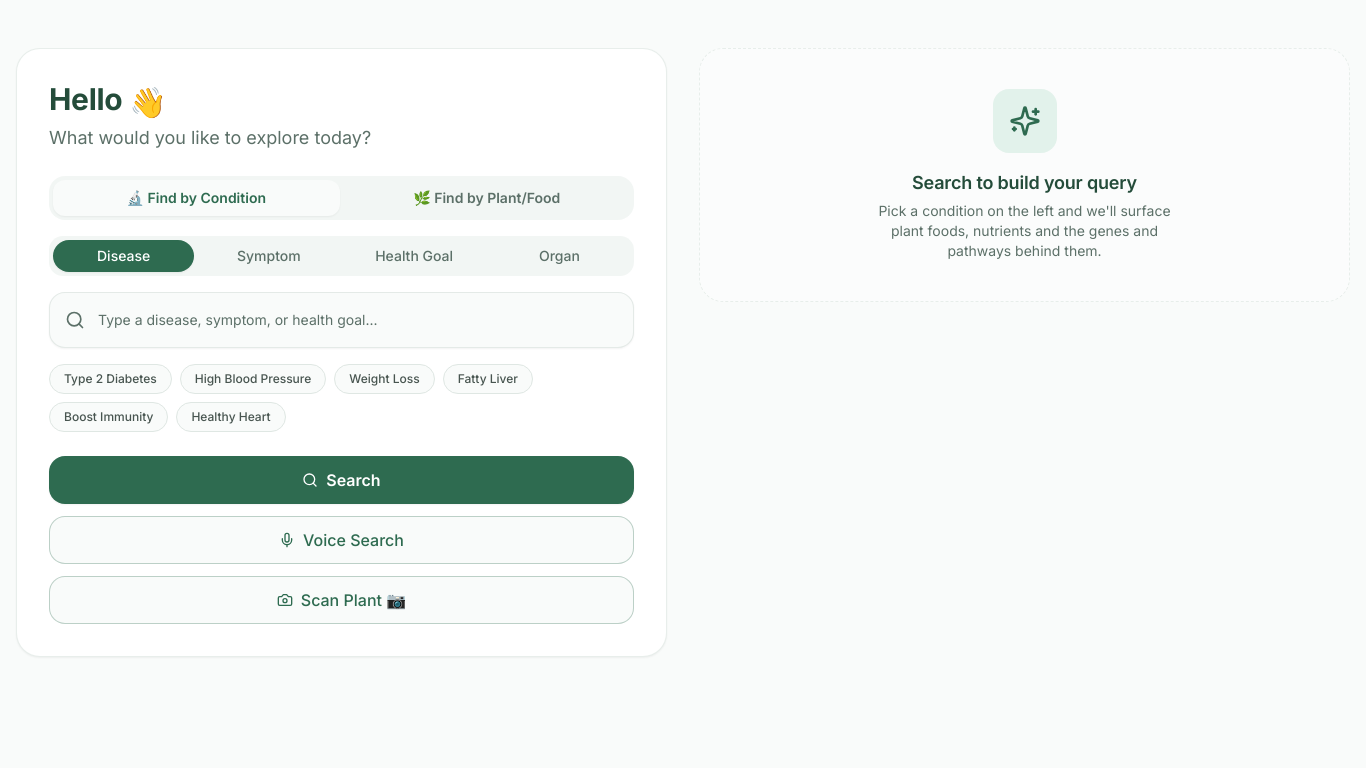
Test: disease search on the home page › offers Get Recommendations only once something is typed
The width and height of the screenshot is (1366, 768).
Expected: the button "get recommendations" is not shown
In the field with placeholder "Type a disease, symptom, or health goal...": (342, 320) [49, 292, 634, 348], type "diab"
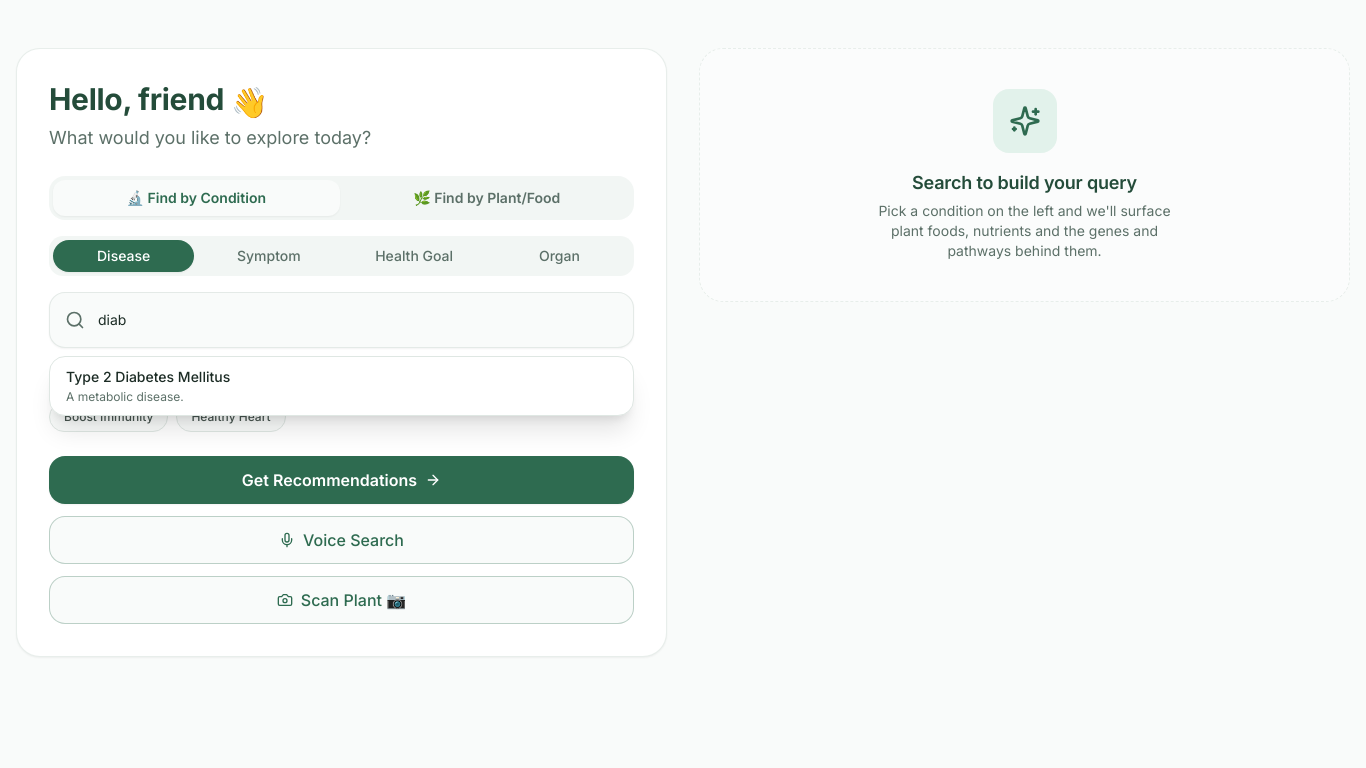
Expected: the button "Get Recommendations" is shown, [49, 456, 634, 504]
